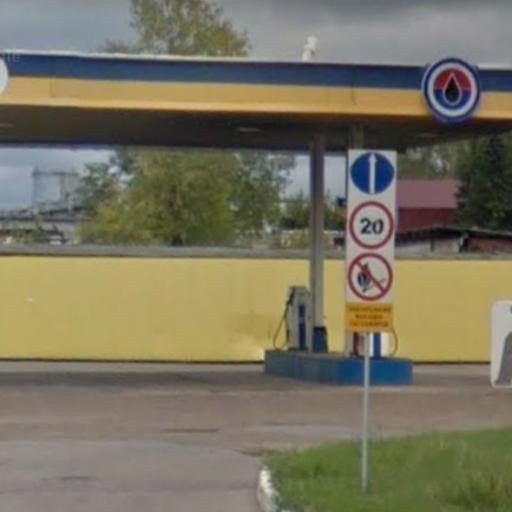traffic_sign: (348, 199, 399, 254)
